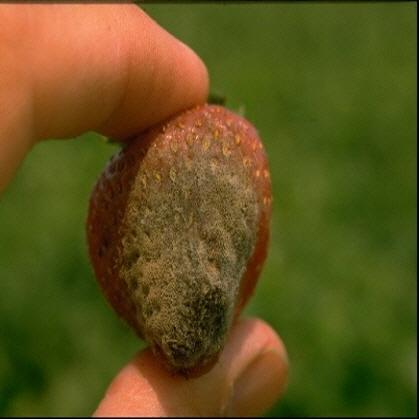Gray Mold: (112, 109, 269, 378)
